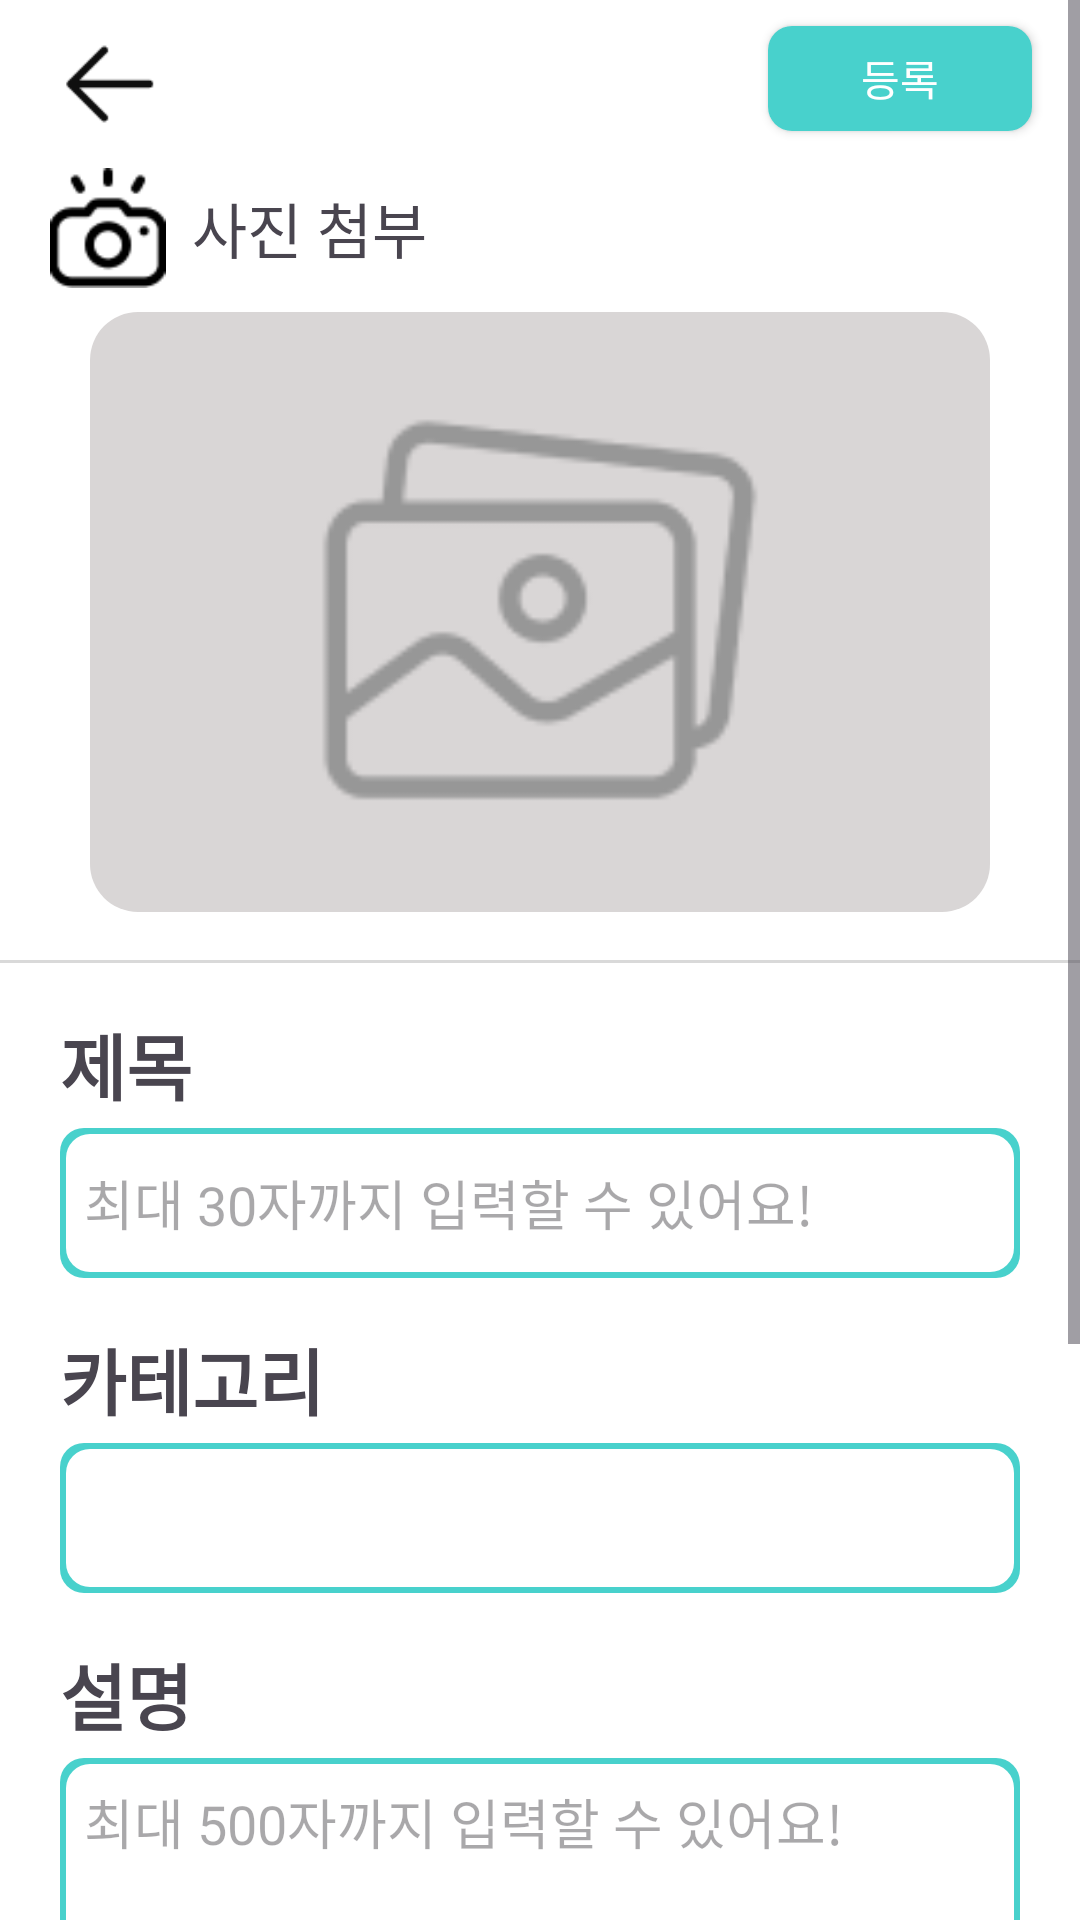

Screen size 1080×1920. Icon name, then its center in pixels as (x=x, y=y):
recipe write camera: (x=108, y=228)
